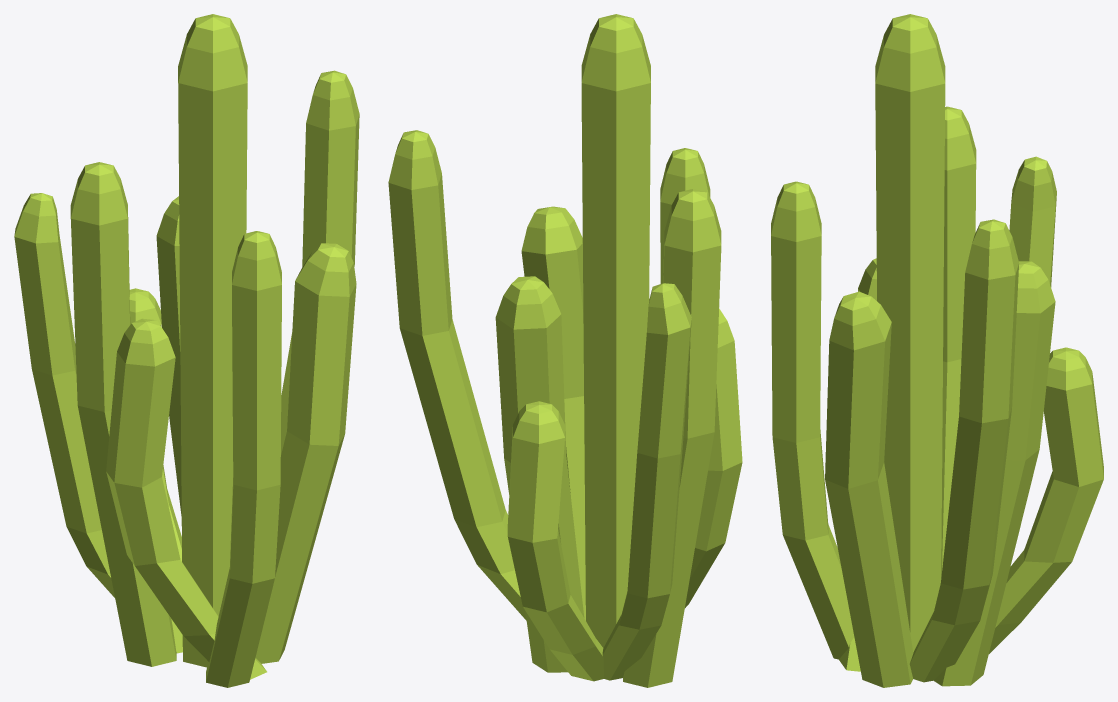
Rendered from Model_Desert_1x1B.fbx.
3 views of the same model, side by side, from view 1: azimuth 30°, elevation 25°; view 2: azimuth 150°, elevation 25°; view 3: azimuth 270°, elevation 25° (orthographic).
Parts seen in each view (by area): view 1: Model_Frost_1x1B; view 2: Model_Frost_1x1B; view 3: Model_Frost_1x1B.
Part boxes in pixels (box(x1,y1,x2,y2)): Model_Frost_1x1B: box(14, 14, 359, 687); Model_Frost_1x1B: box(388, 14, 742, 687); Model_Frost_1x1B: box(771, 14, 1103, 687).
Bounding box in the file's own units: 189 × 357 × 168.
1 material, 1 textured.
